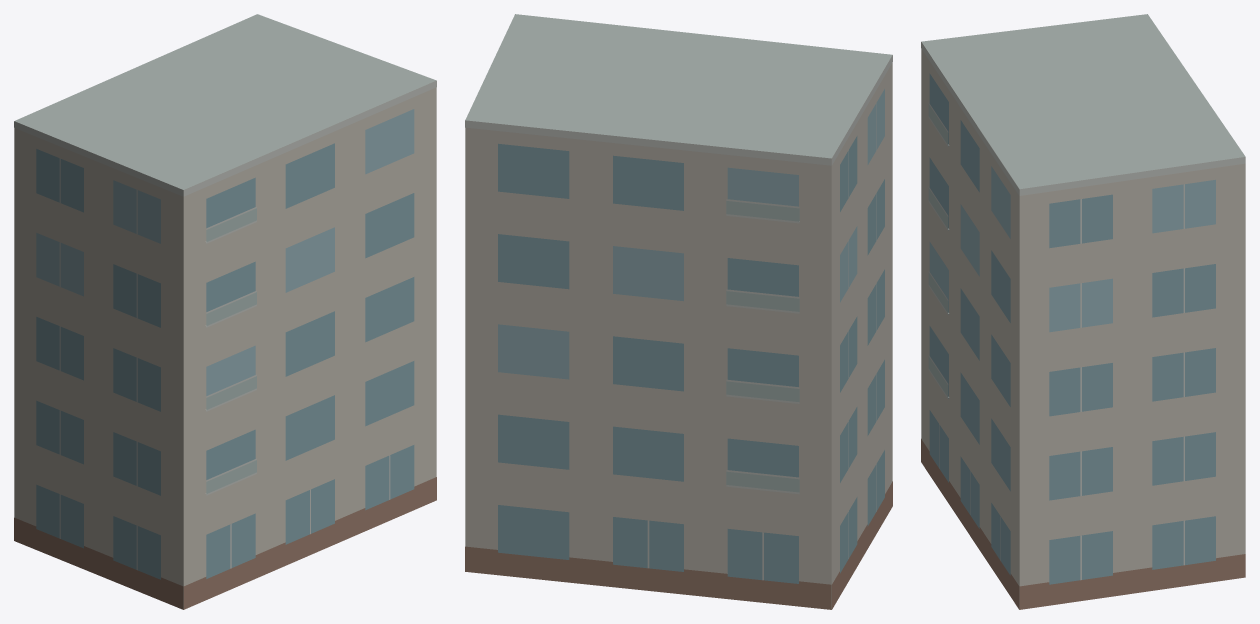
The model's file is survey-upis-32651068.glb.
3 renders of one model, left to right at view 1: azimuth 30°, elevation 25°; view 2: azimuth 150°, elevation 25°; view 3: azimuth 270°, elevation 25°, orthographic. The views are drawn at different scales.
Visible parts, largest first — view 1: survey-upis-32651068.tmp; view 2: survey-upis-32651068.tmp; view 3: survey-upis-32651068.tmp.
Part boxes in pixels (x1,y1,x2,y2): survey-upis-32651068.tmp: (14, 14, 436, 609); survey-upis-32651068.tmp: (465, 14, 892, 609); survey-upis-32651068.tmp: (921, 14, 1245, 609).
Size of the model in its own units: 13.64 by 15.25 by 10.67.
